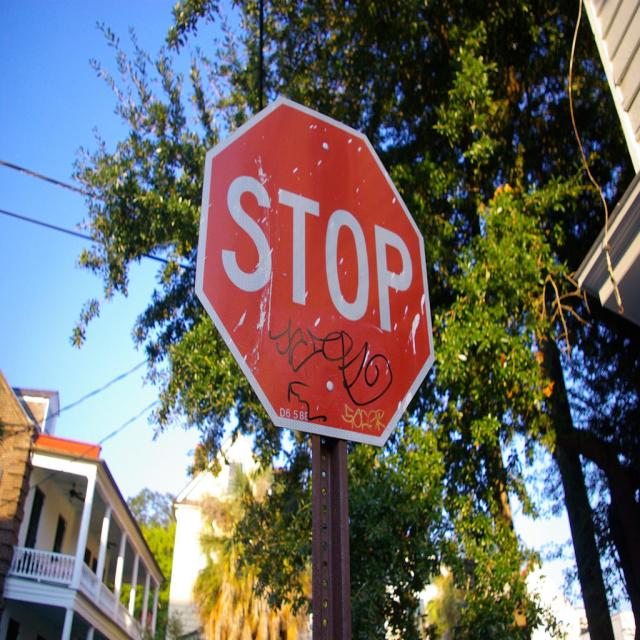Stop-sign: (192, 94, 436, 452)
